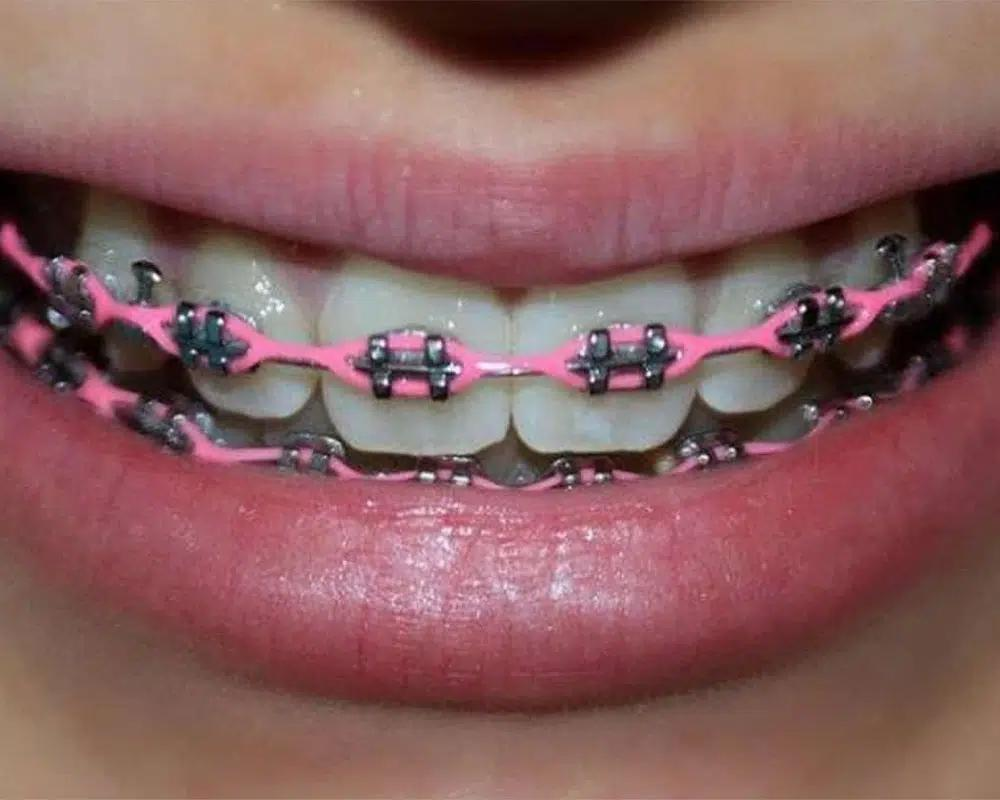Braces: (0, 210, 1000, 494)
